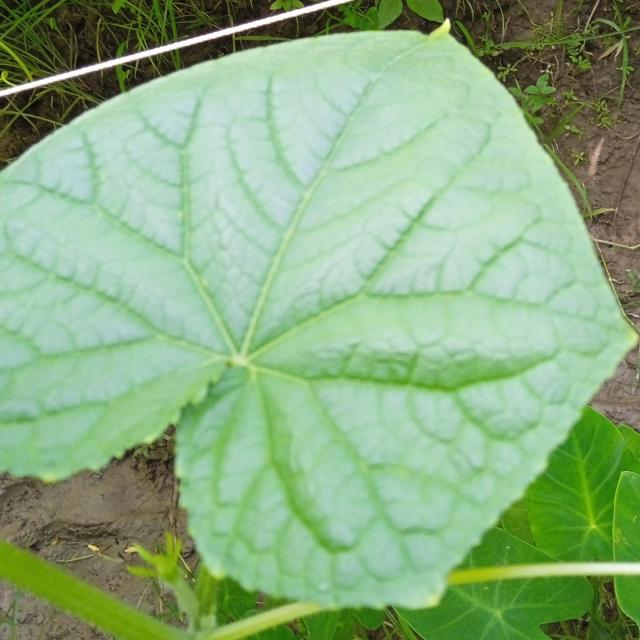cucumber_healthy: (0, 11, 640, 613), (394, 517, 596, 640), (523, 395, 640, 573), (609, 465, 640, 629)
